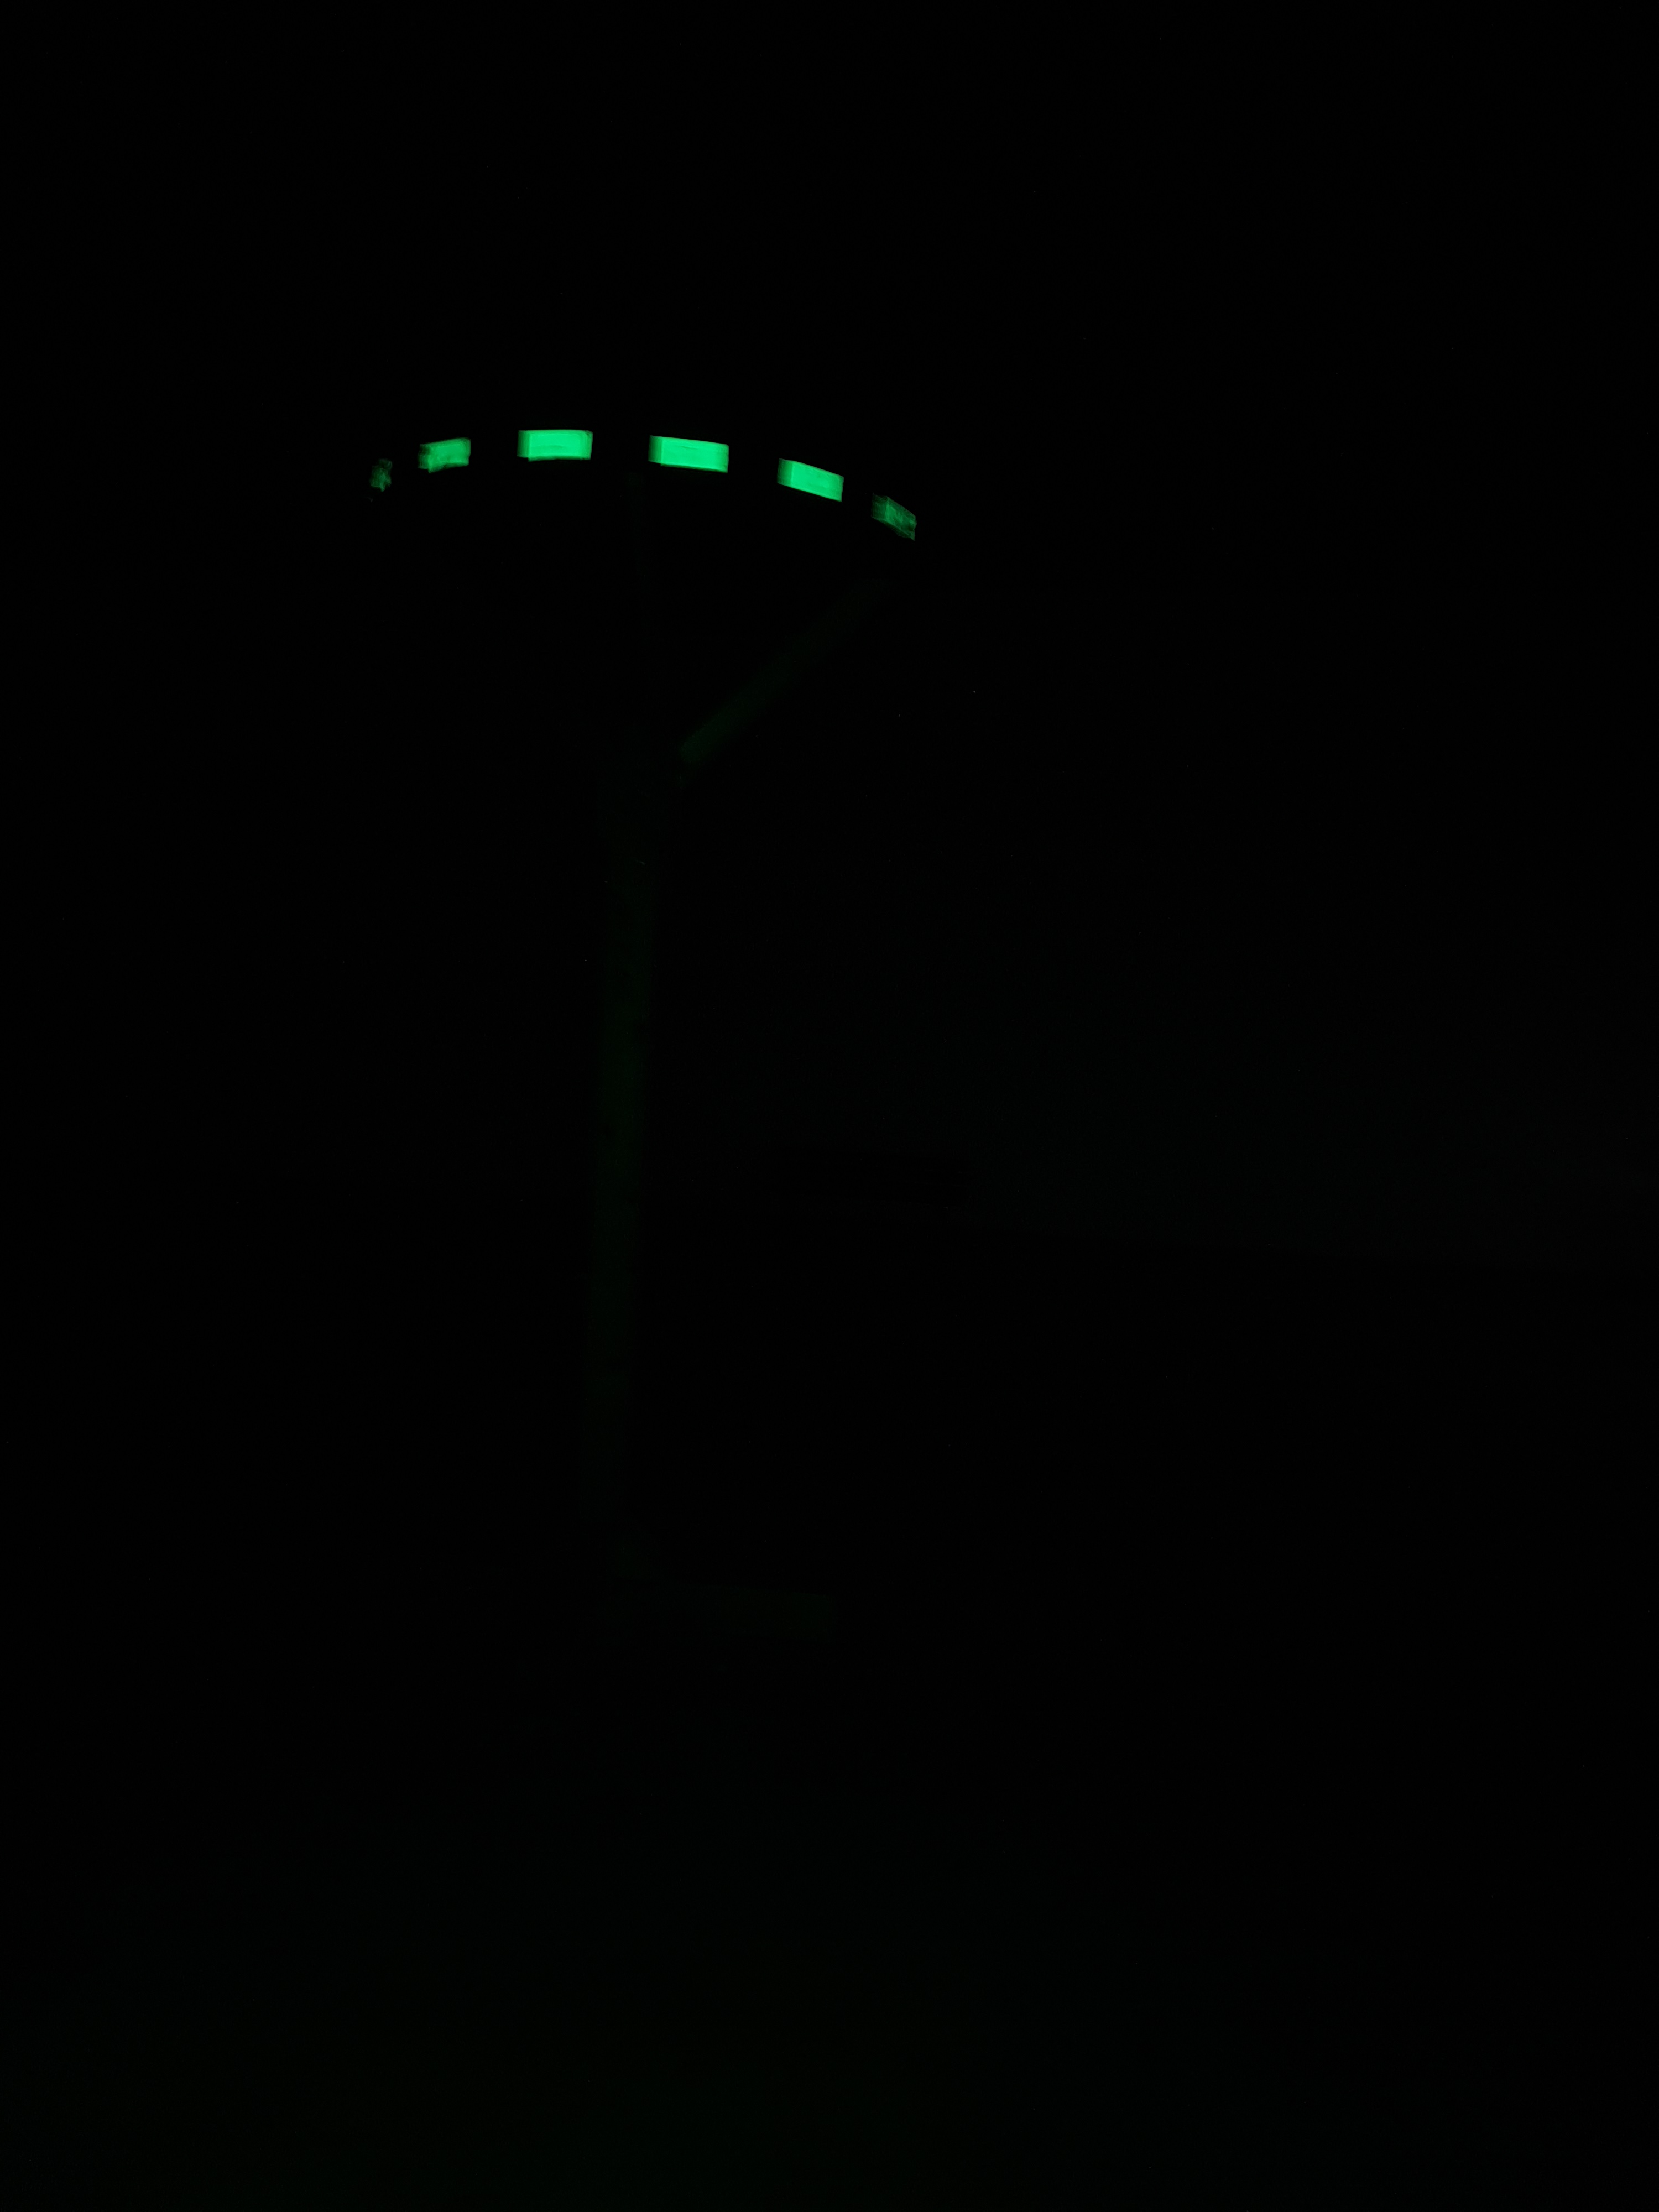hoop: (415, 418, 927, 547)
